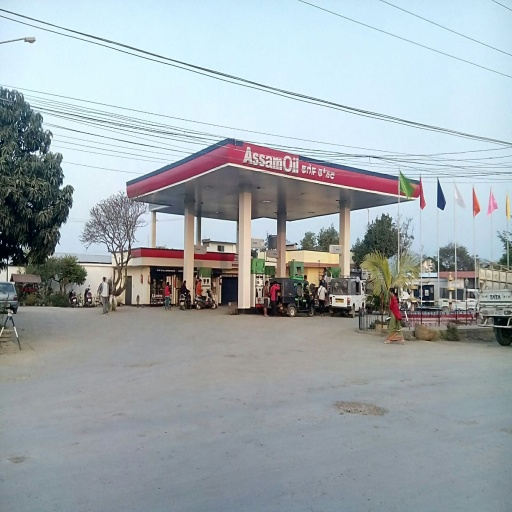roof: (126, 138, 422, 229)
